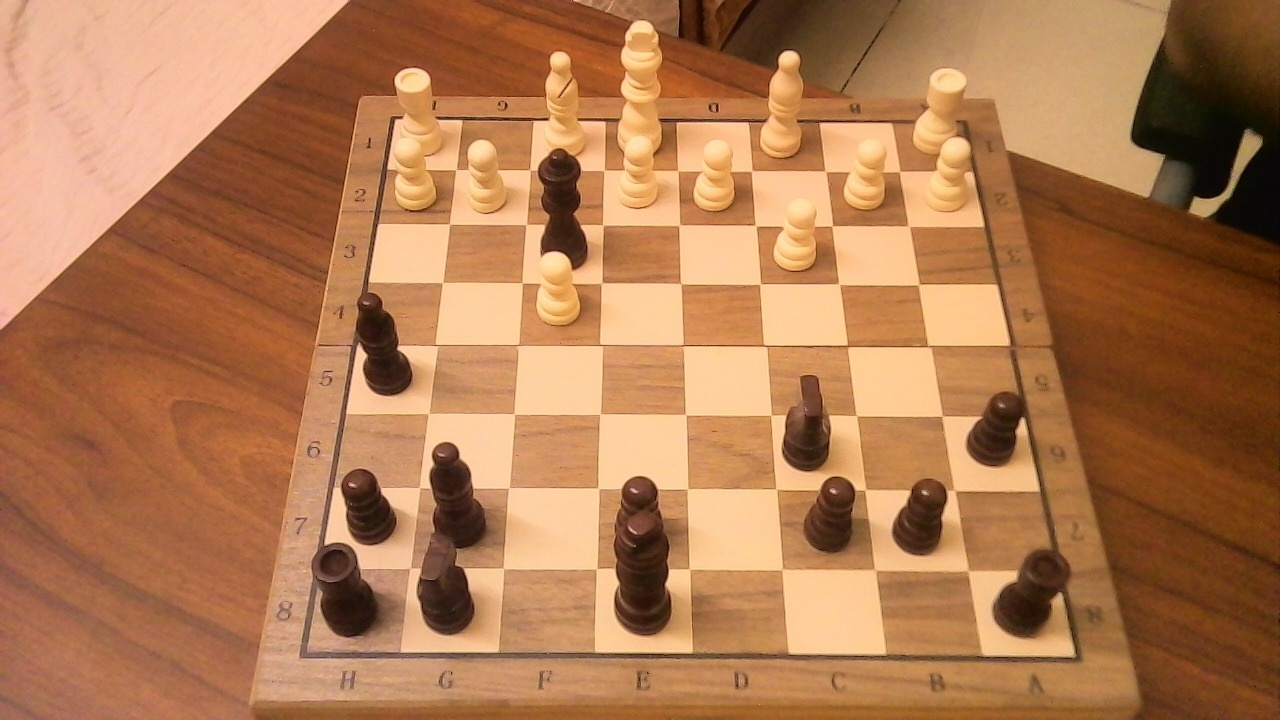B: (755, 39, 814, 162), (537, 40, 593, 157)
K: (610, 10, 673, 159)
P: (918, 128, 980, 216), (527, 241, 588, 330), (766, 188, 827, 275), (836, 129, 897, 213), (610, 126, 667, 214), (385, 128, 443, 213), (686, 130, 743, 216), (458, 131, 514, 218)
R: (905, 57, 974, 160), (390, 58, 450, 160)
b: (421, 429, 497, 551), (351, 281, 422, 400)
k: (603, 505, 681, 641)
n: (410, 522, 487, 638), (778, 359, 844, 474)
p: (605, 464, 675, 565), (886, 467, 961, 561), (961, 379, 1035, 470), (332, 457, 406, 547), (797, 464, 867, 556)
q: (531, 136, 599, 276)
r: (987, 536, 1081, 642), (309, 531, 393, 639)
